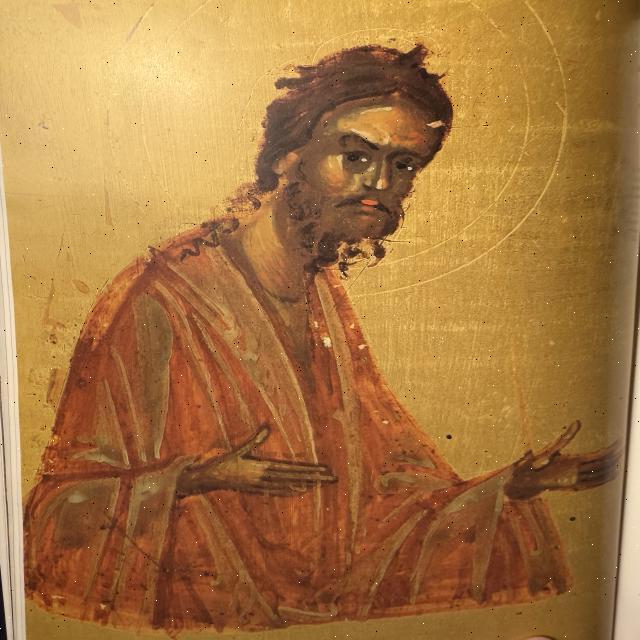aura: (103, 2, 560, 290)
saint: (28, 1, 640, 637)
